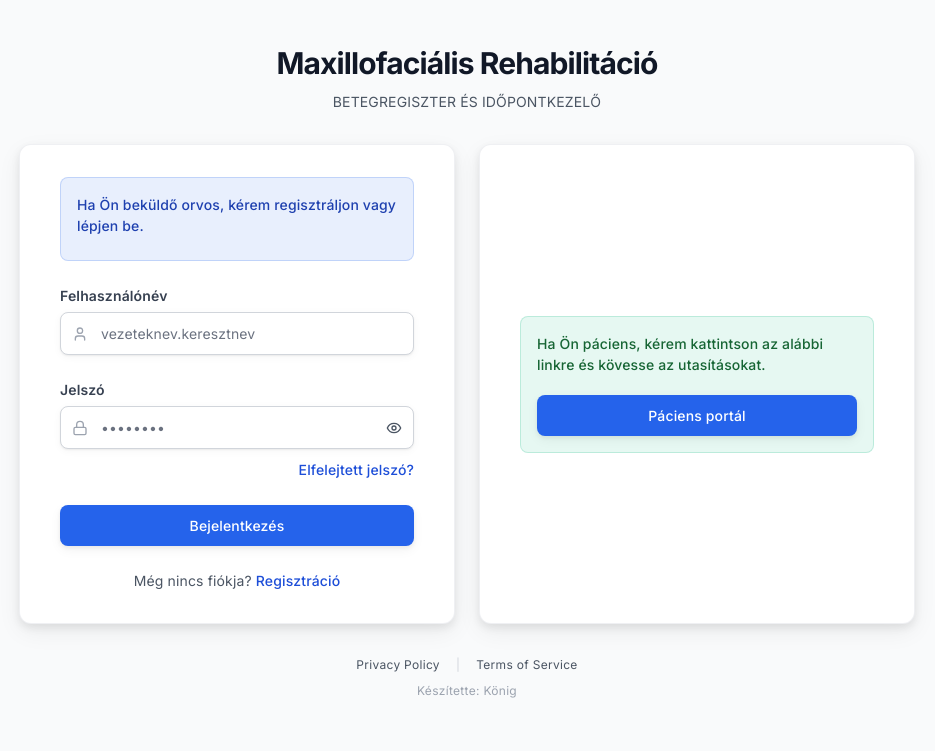
it: Login — inaktivált fiók › rossz jelszó: a szokásos hibadoboz, a forgot-link marad
Type "doki@dev.local" into the field labelled "Felhasználónév" at (237, 334), box [60,312,414,355]
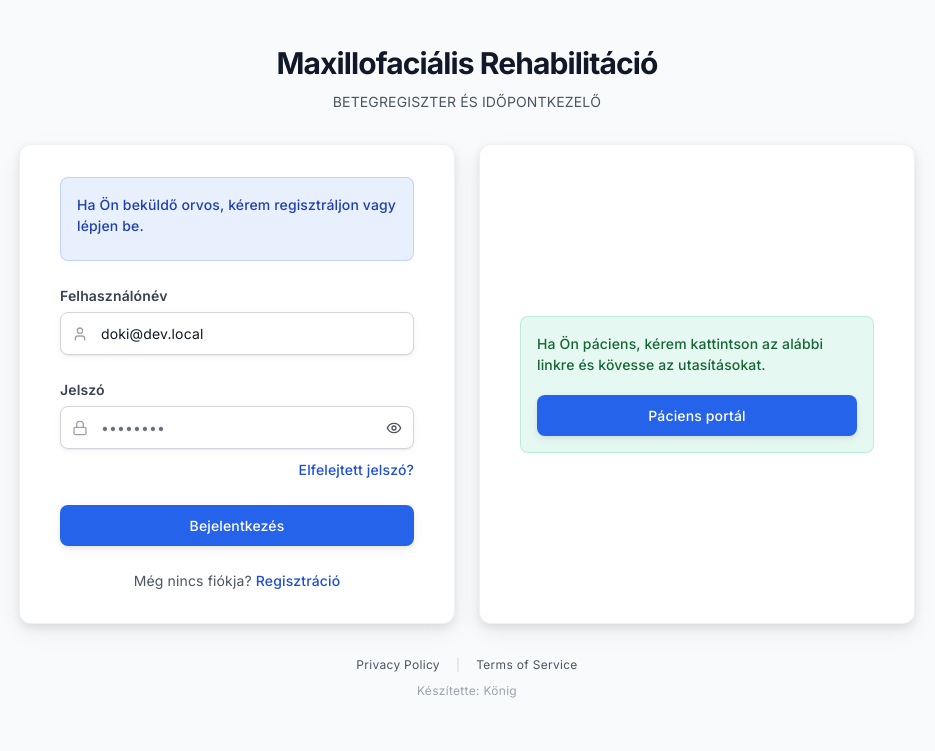
Type "x" into the password field labelled "Jelszó" at (237, 428), box [60,406,414,449]
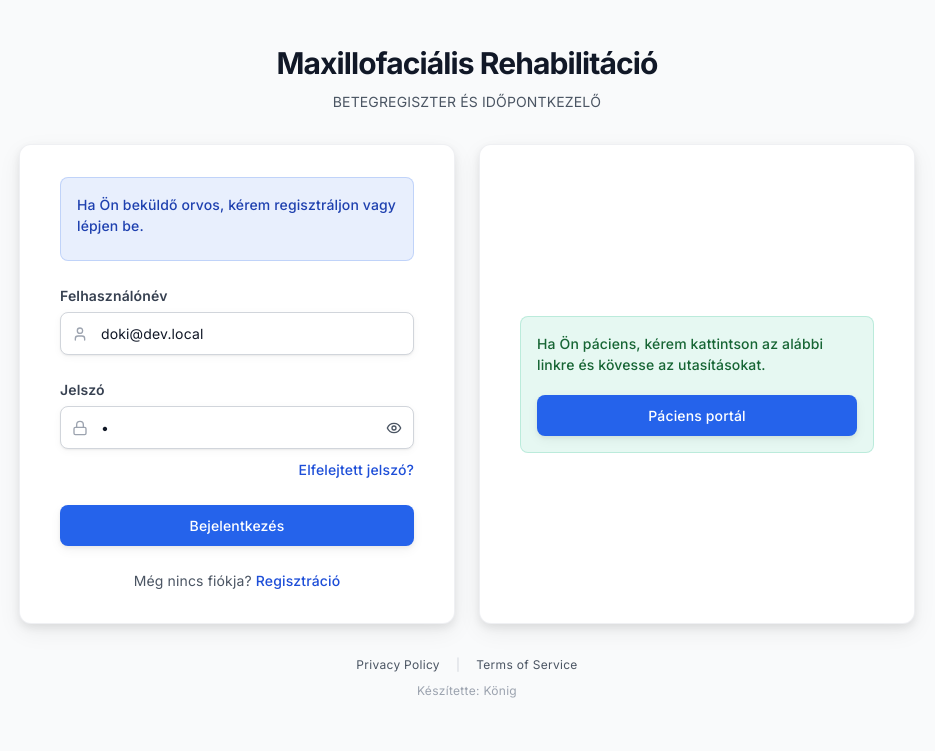
Click the button "Bejelentkezés" at (237, 526), box [60,505,414,546]
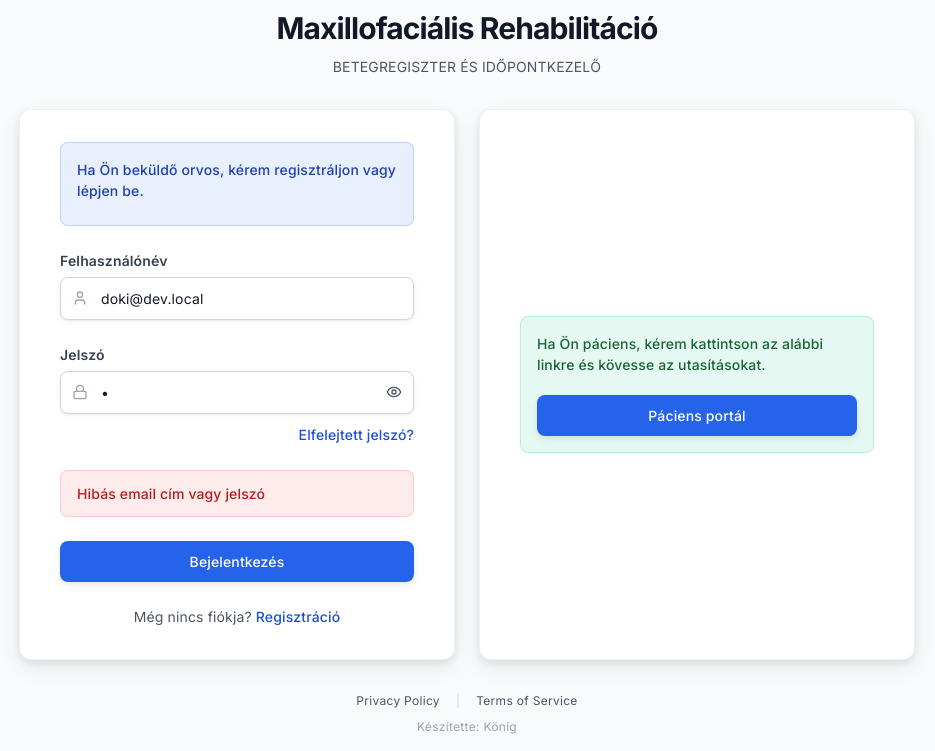
Expected: the link "Elfelejtett jelszó?" is shown, [299,426,414,442]
Now the message reads "Hibás email cím vagy jelszó", box [77,484,265,502]
